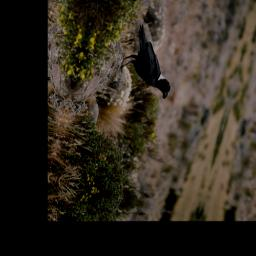Crow: (113, 21, 187, 103)
